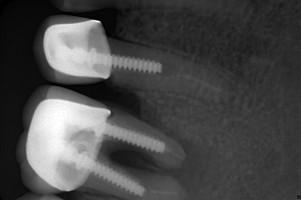Dental Caries: (109, 129, 222, 196)
